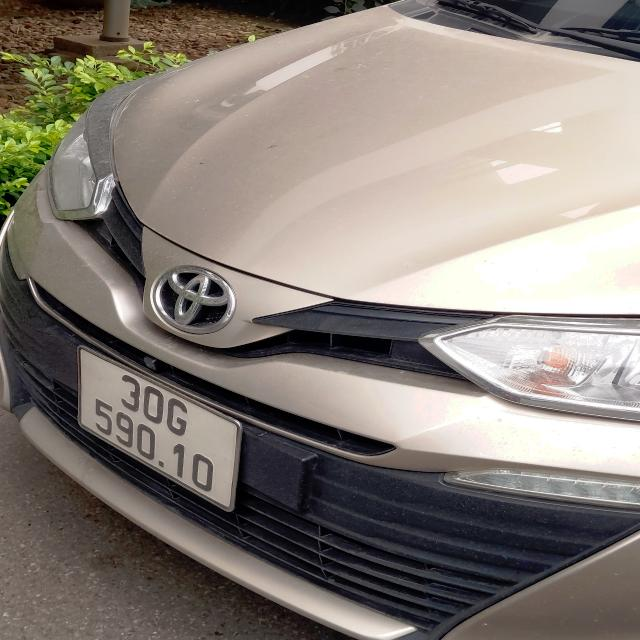license_plate: (79, 350, 243, 510)
